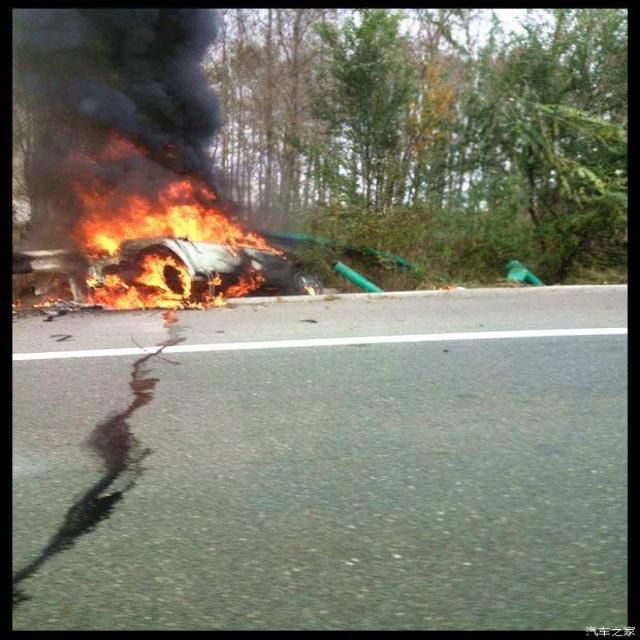fire: (69, 151, 282, 312)
smoke: (14, 11, 223, 194)
